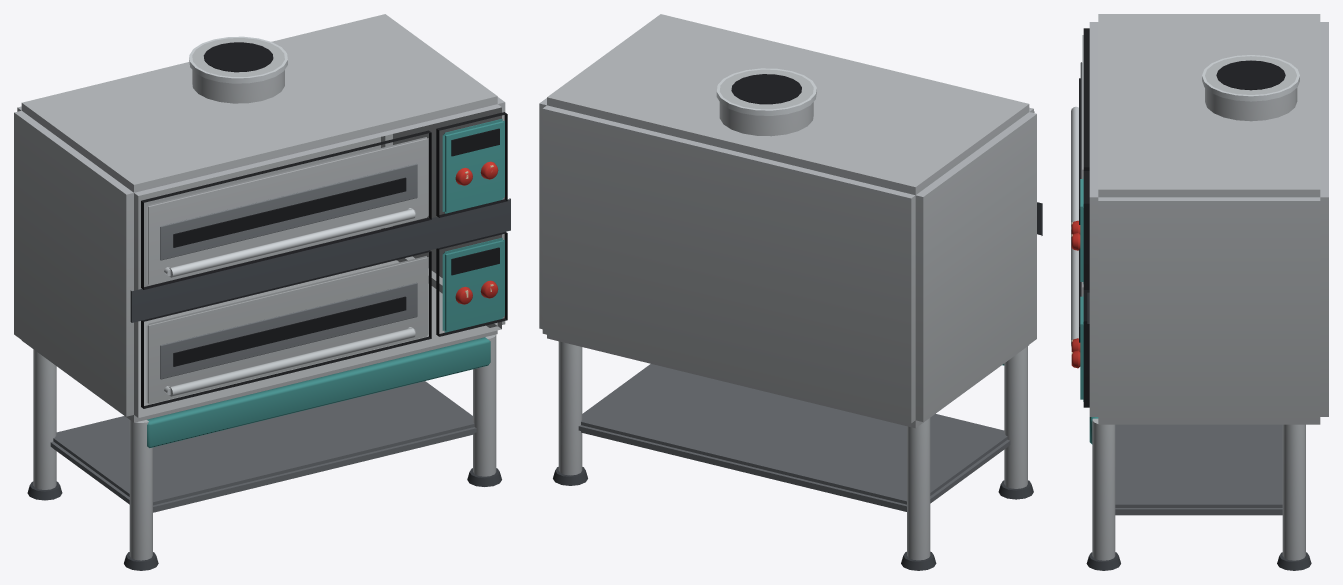
Rendered from SM_Oven_PizzaDeck_15.glb.
3 views of the same model, side by side, from view 1: azimuth 30°, elevation 25°; view 2: azimuth 150°, elevation 25°; view 3: azimuth 270°, elevation 25° (orthographic). The views are drawn at different scales.
Visible parts, largest first — view 1: SM_Oven_PizzaDeck_15; view 2: SM_Oven_PizzaDeck_15; view 3: SM_Oven_PizzaDeck_15.
Boxes of the visible parts, left/top/right/bottom form: SM_Oven_PizzaDeck_15: left=14, top=14, right=510, bottom=570; SM_Oven_PizzaDeck_15: left=539, top=14, right=1042, bottom=570; SM_Oven_PizzaDeck_15: left=1071, top=14, right=1328, bottom=570.
Bounding box in the file's own units: 1.5 × 1.55 × 0.894.
1 material, 1 textured.
